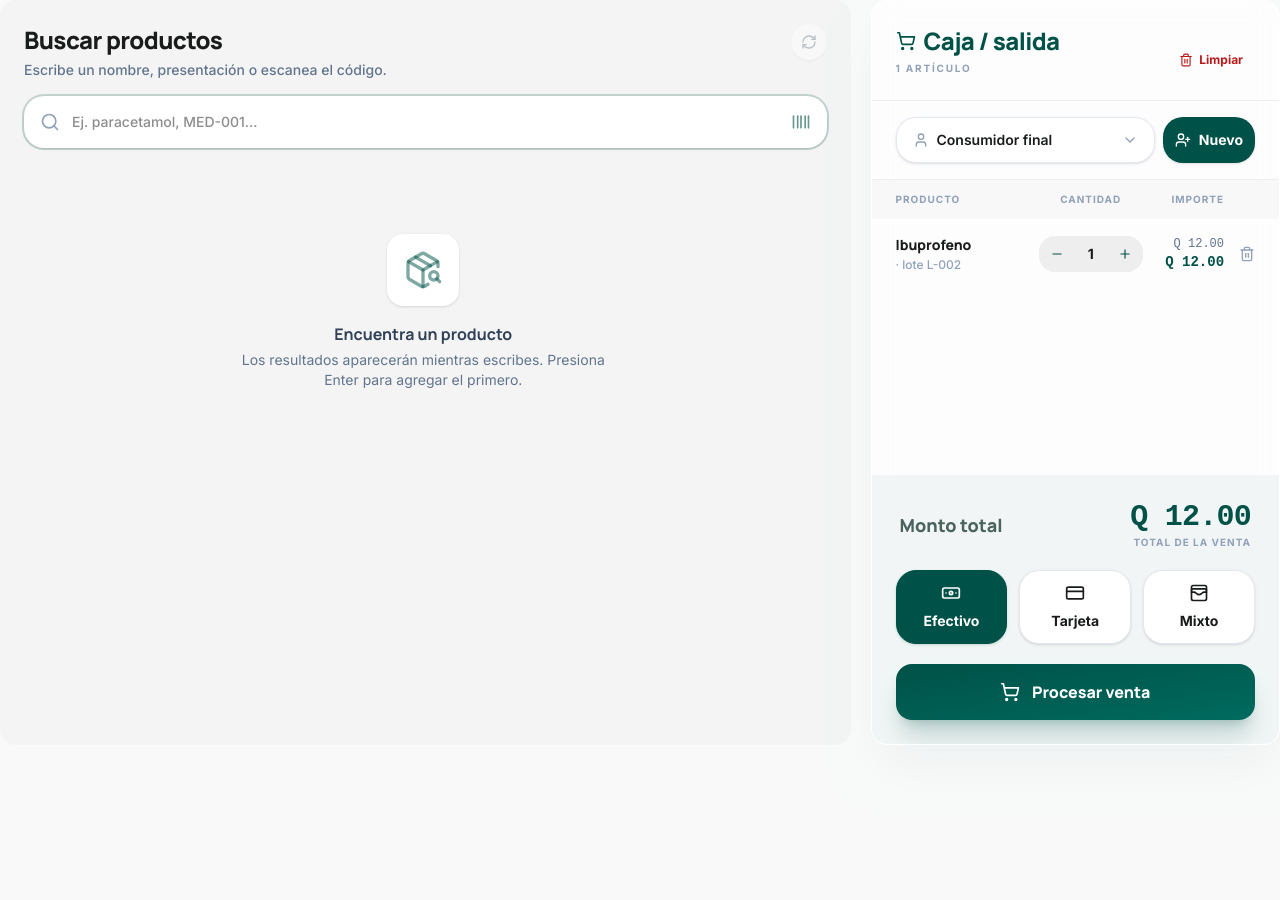
Scenario: PuntoVenta › avisa antes de cobrar una venta con productos proximos a vencer en el carrito
Click the button "Procesar venta": (1075, 692) [896,664,1255,720]
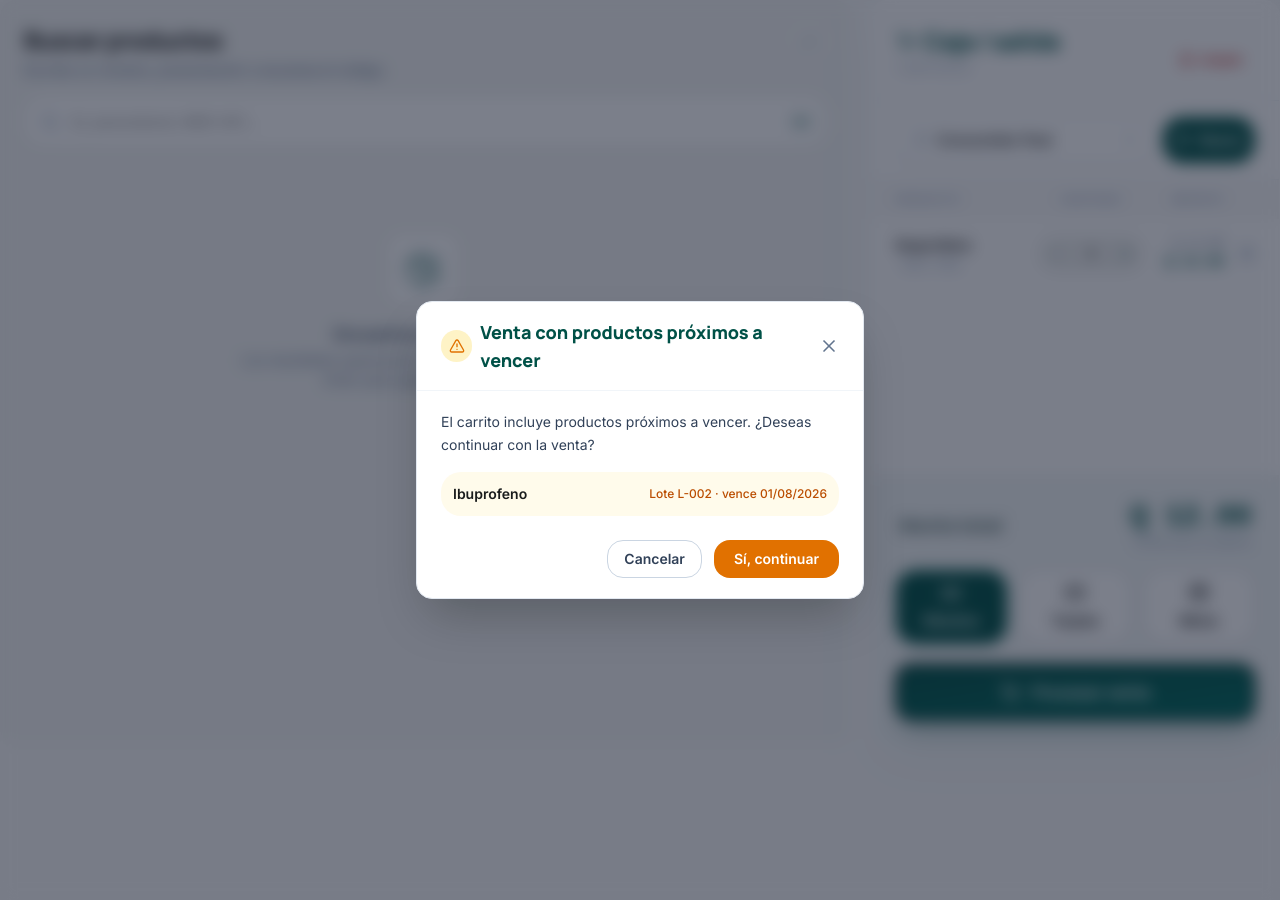
Expected: the heading "Venta con productos próximos a vencer" is shown, [480,320,763,372]
Click the button "Sí, continuar": (776, 559) [714,540,839,578]
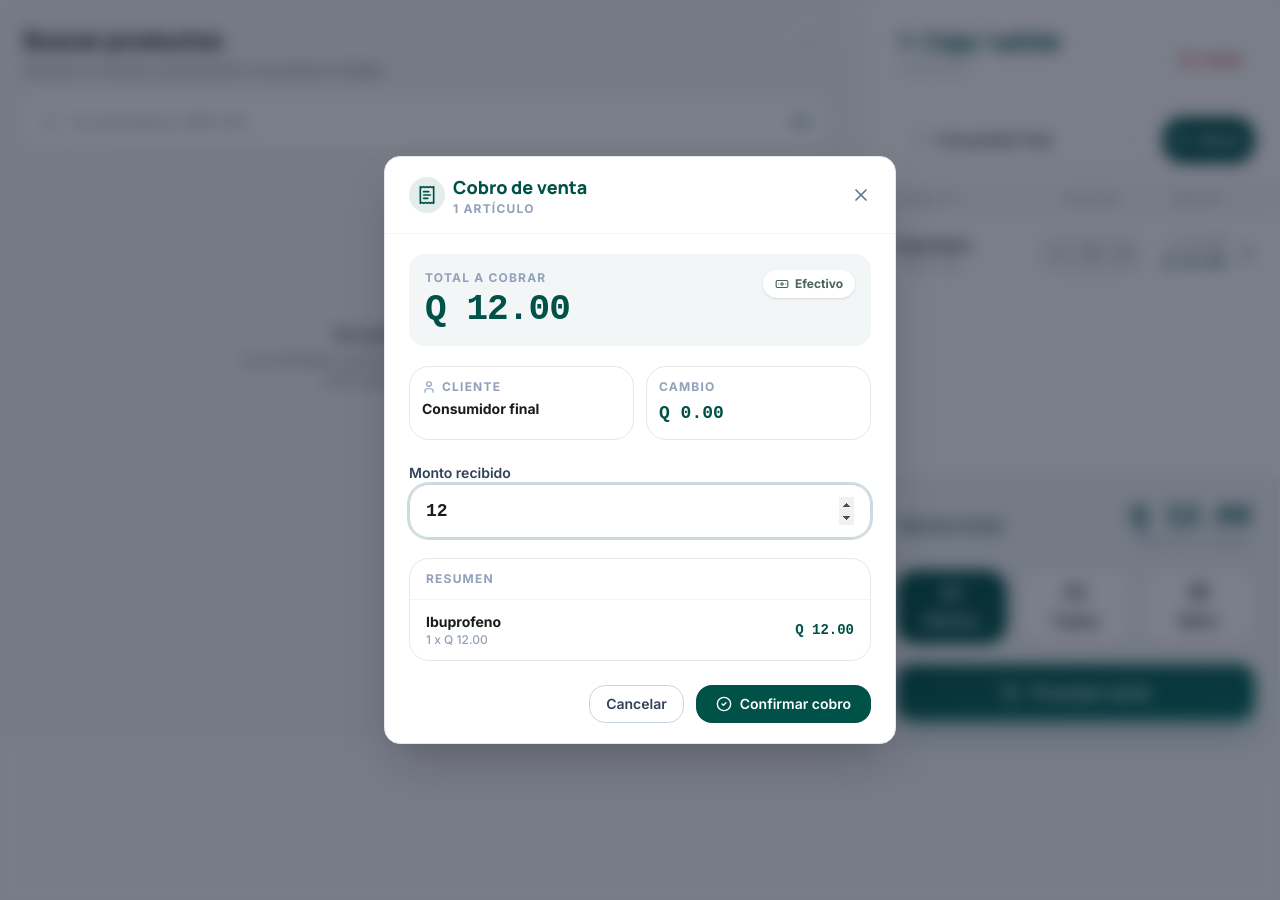
Expected: the heading "Cobro de venta" is shown, [453,173,587,201]
